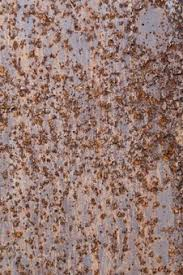rust: (4, 3, 181, 272)
